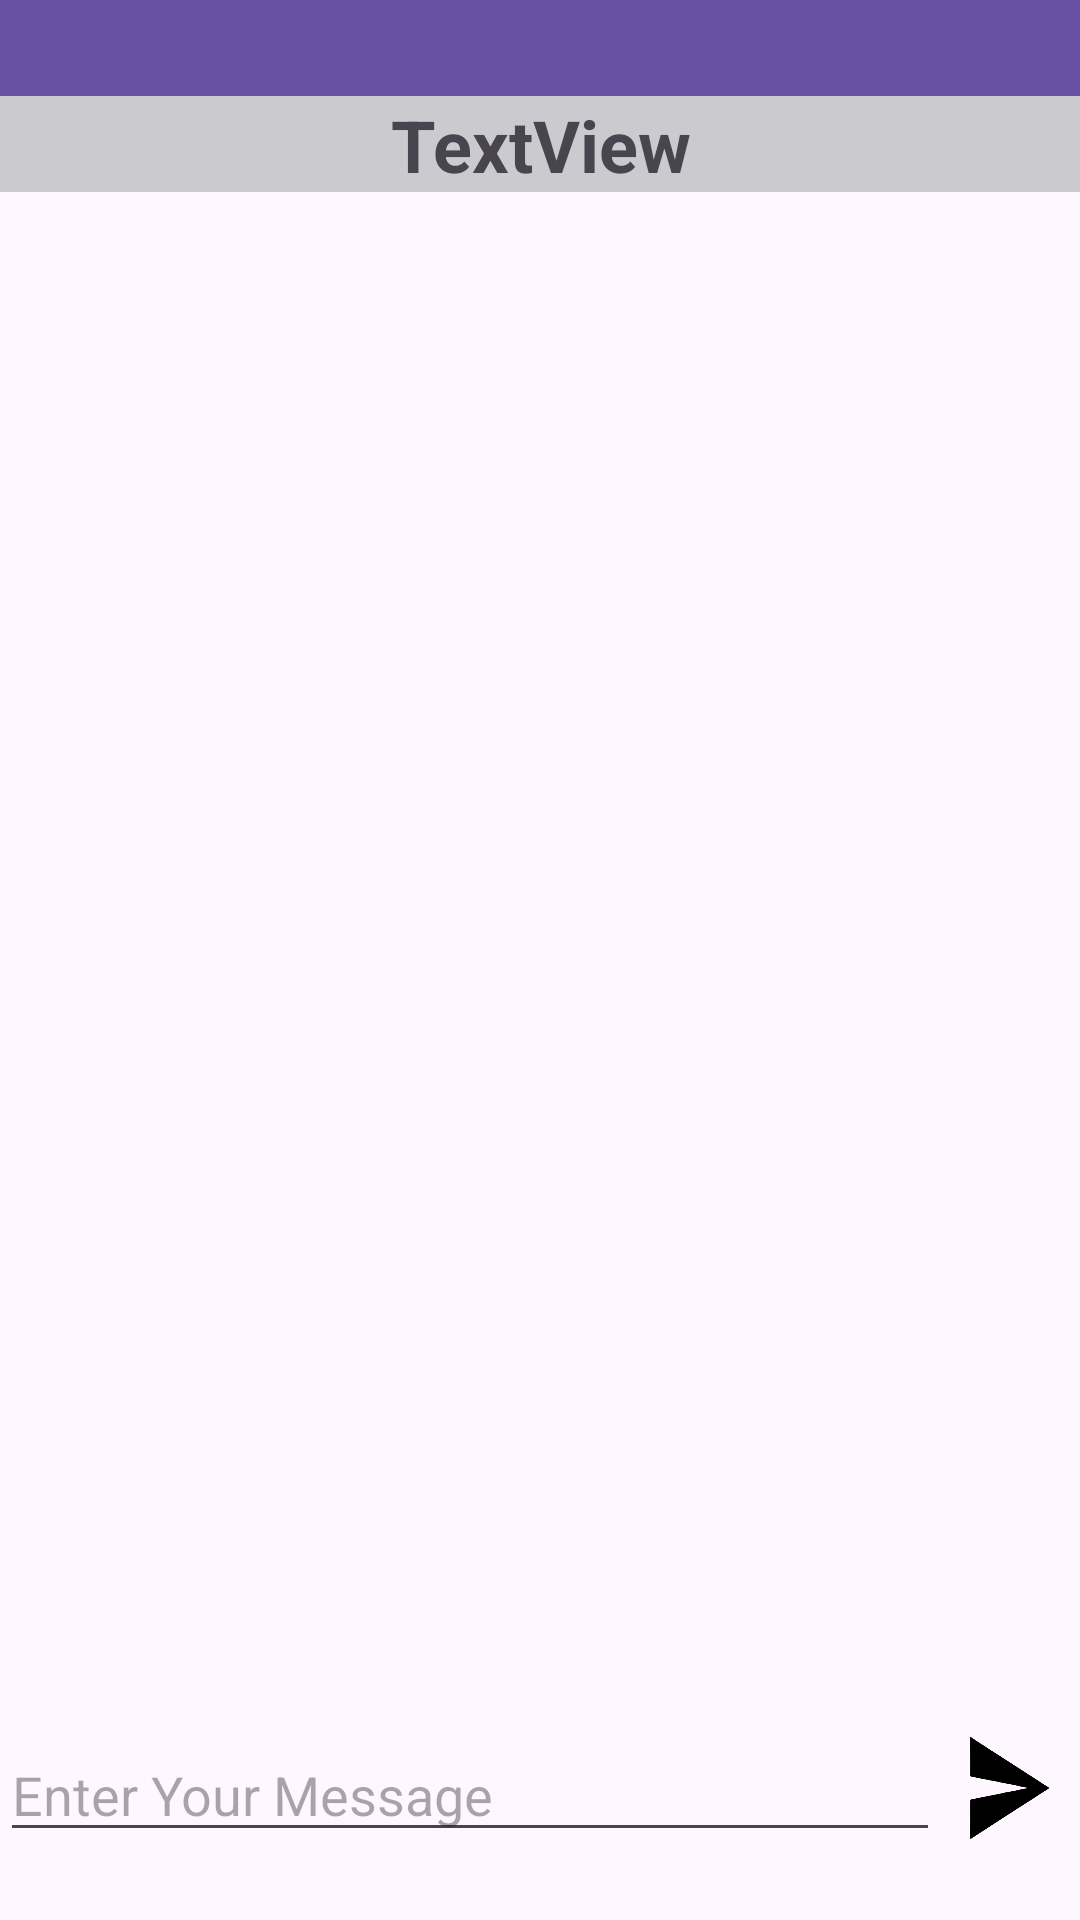

Icon click points for this 1080*1920 phone screenshot, format point (x, y):
sned: point (1009, 1788)
